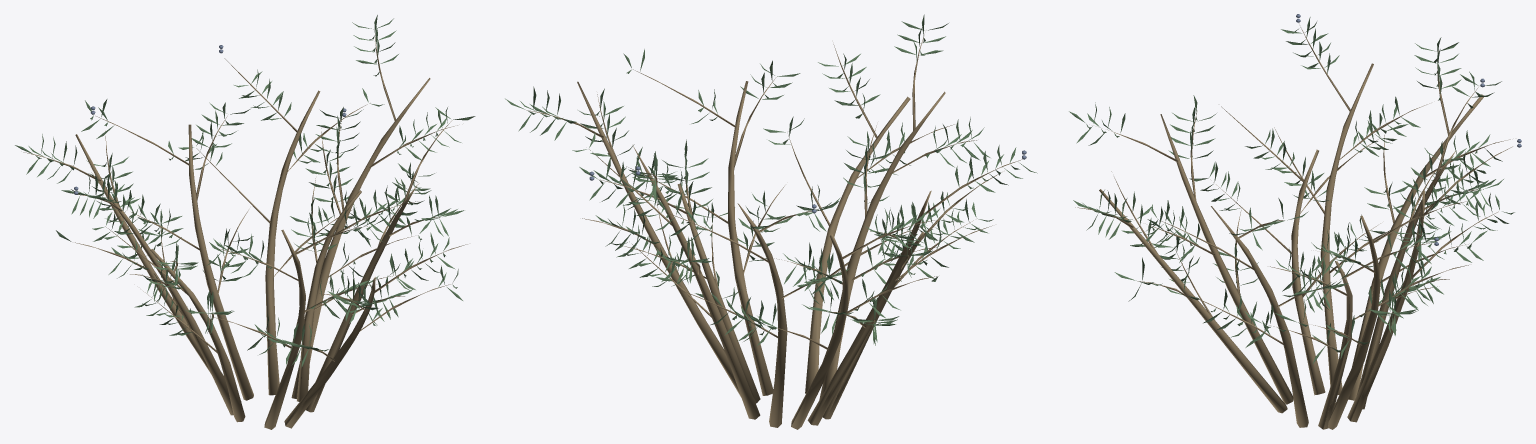
The model's file is Romarin_0_Niveau1.fbx.
3 renders of one model, left to right at view 1: azimuth 30°, elevation 25°; view 2: azimuth 150°, elevation 25°; view 3: azimuth 270°, elevation 25°, orthographic. The views are drawn at different scales.
Visible parts, largest first — view 1: Romarin_0_Niveau1; view 2: Romarin_0_Niveau1; view 3: Romarin_0_Niveau1.
Part boxes in pixels (<box>): Romarin_0_Niveau1: <box>15,15,475,429</box>; Romarin_0_Niveau1: <box>505,14,1037,429</box>; Romarin_0_Niveau1: <box>1069,14,1521,429</box>.
Size of the model in its own units: 57.56 by 41.39 by 53.27.
